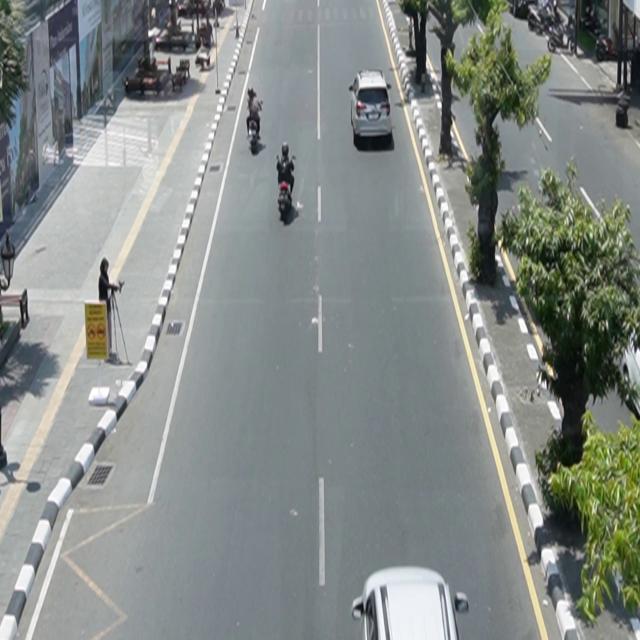car: (352, 567, 470, 640), (349, 69, 393, 141)
